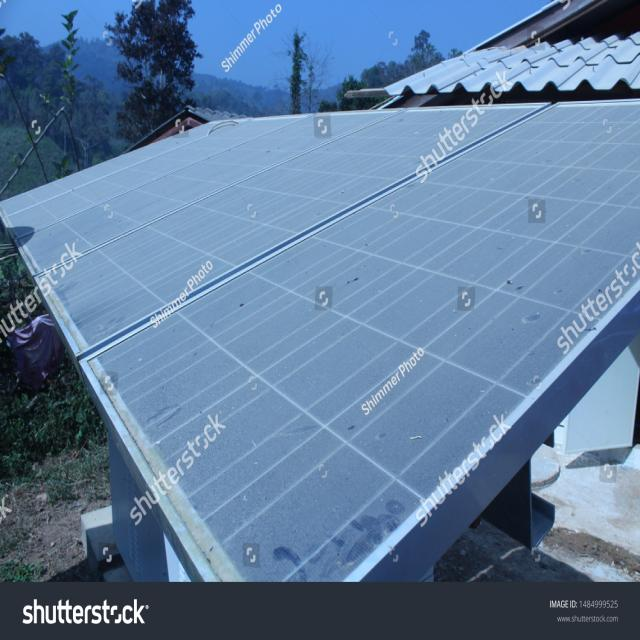dust-solar-panel: (0, 102, 640, 584)
